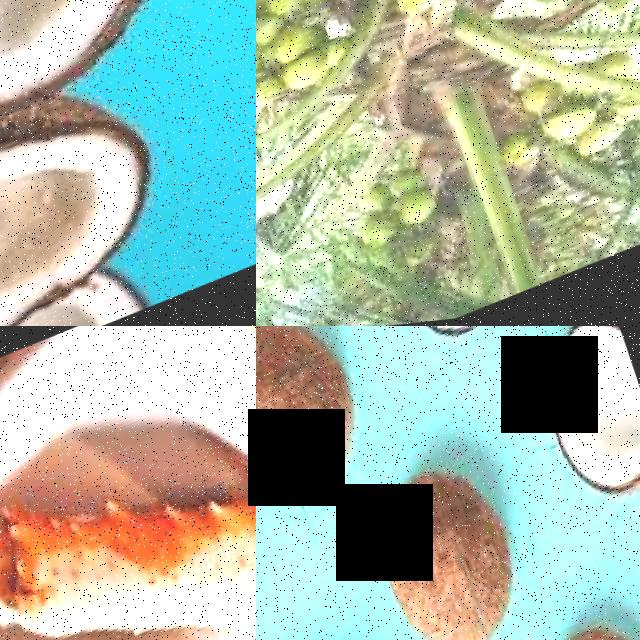coconut: (0, 63, 191, 326), (0, 0, 227, 196), (355, 458, 536, 640), (517, 326, 640, 545), (256, 326, 378, 525), (378, 326, 534, 367)
coconuts: (256, 0, 327, 130)
crab: (0, 410, 256, 640)
